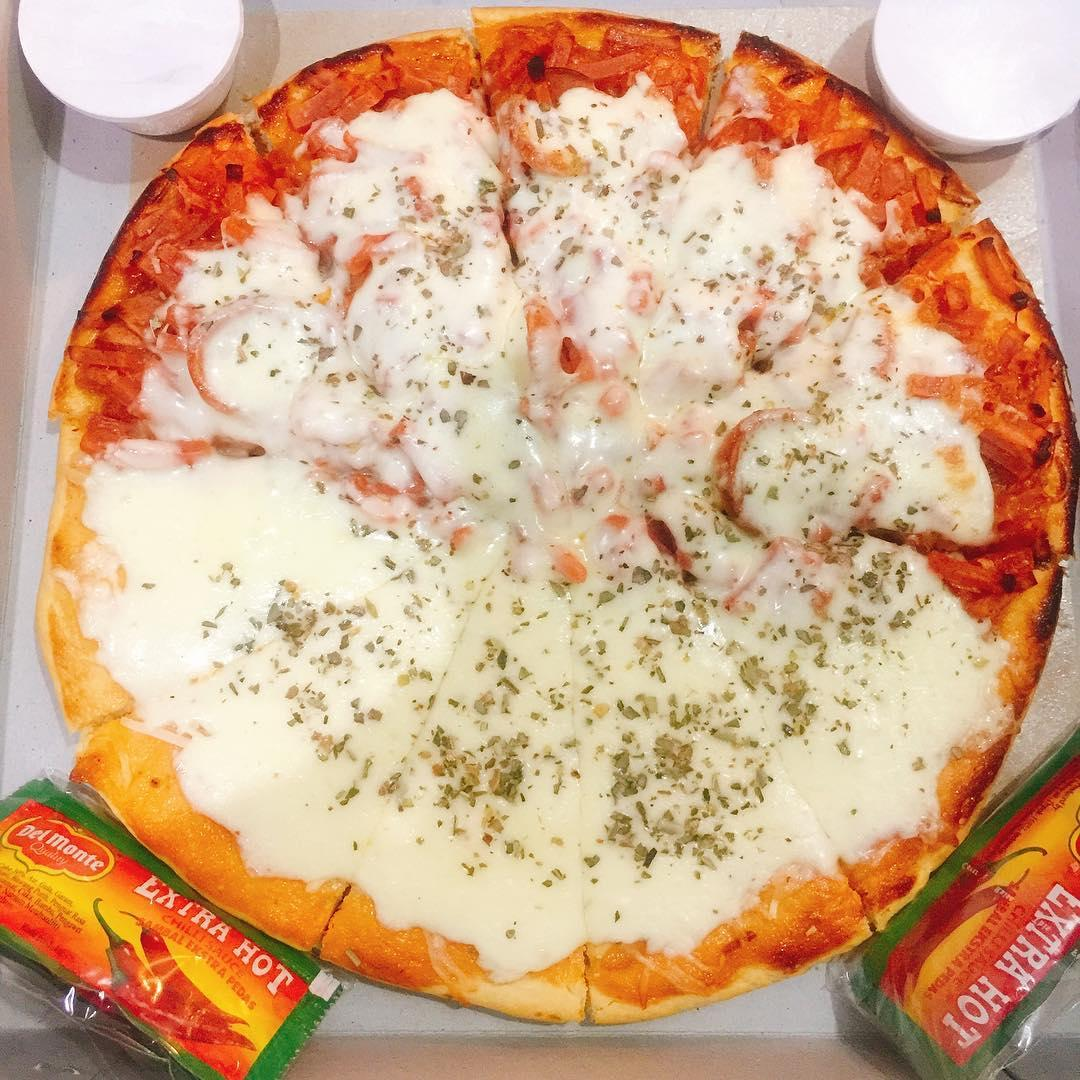Cheese: (415, 601, 738, 893), (143, 493, 415, 730), (739, 566, 938, 808), (330, 176, 505, 347), (506, 195, 783, 296)
Pizza: (47, 12, 1080, 1025)
Tomatoes: (719, 407, 894, 548), (264, 36, 481, 143), (482, 25, 705, 121), (122, 122, 264, 258), (956, 402, 1043, 623), (186, 295, 330, 421), (518, 295, 643, 423), (917, 239, 1015, 400), (67, 261, 155, 423), (707, 72, 850, 163), (851, 153, 957, 237)
